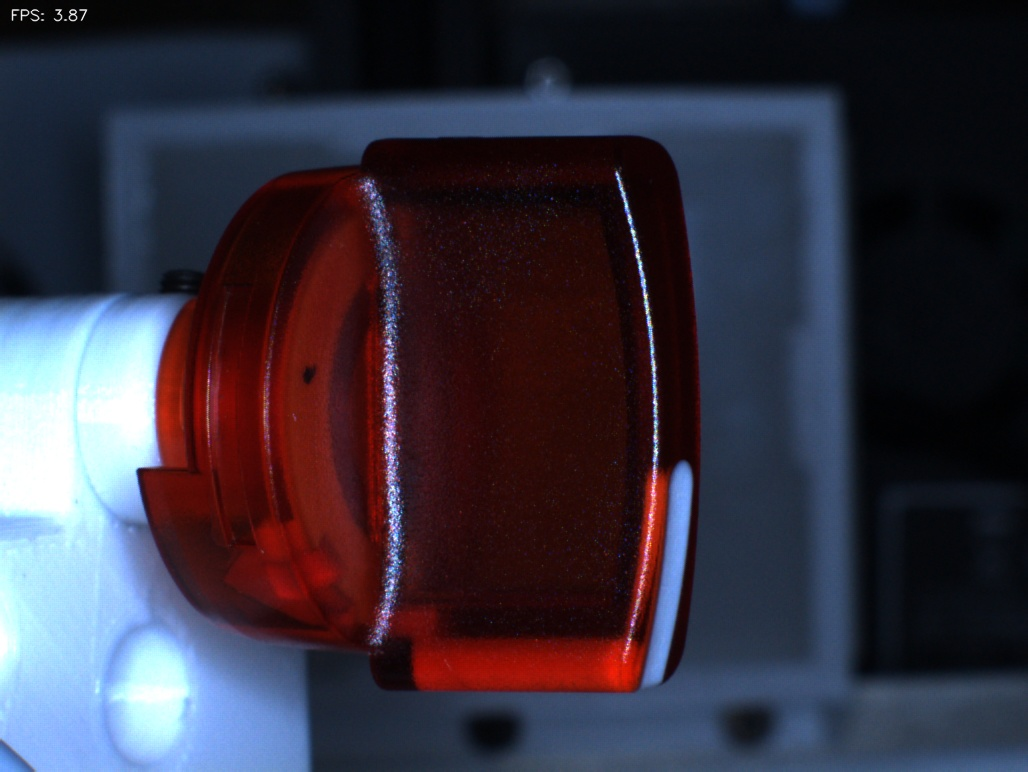PointNoir: (264, 321, 356, 421)
